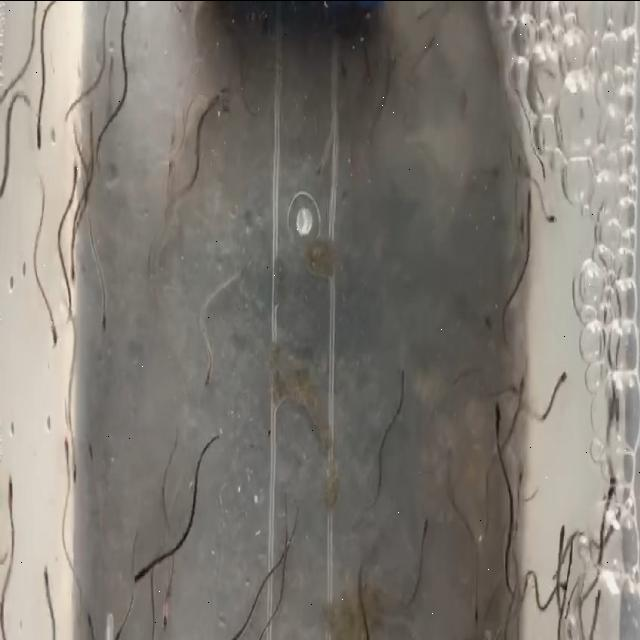active_glass_eel: (508, 205, 530, 252), (40, 306, 57, 364), (215, 72, 233, 123), (607, 389, 625, 434), (525, 202, 541, 252), (388, 354, 411, 388), (603, 473, 620, 519), (556, 519, 572, 567), (98, 293, 114, 341), (586, 582, 605, 620), (128, 549, 143, 597), (550, 572, 570, 608), (511, 459, 532, 493), (81, 419, 95, 469), (547, 195, 561, 242), (153, 600, 169, 640), (416, 512, 436, 544), (558, 519, 570, 572), (486, 362, 506, 393), (116, 0, 133, 36), (467, 606, 488, 634), (59, 428, 74, 466), (486, 398, 508, 423), (356, 614, 377, 640), (197, 354, 213, 388), (488, 154, 504, 188), (515, 383, 531, 417), (68, 253, 80, 297), (97, 0, 112, 35), (70, 156, 90, 182), (482, 300, 497, 334), (554, 368, 568, 404), (421, 31, 438, 60), (15, 40, 33, 67), (313, 147, 328, 179), (454, 73, 470, 103), (37, 561, 53, 591), (610, 509, 624, 541), (6, 470, 16, 514), (115, 601, 126, 640), (331, 52, 348, 77), (34, 118, 46, 152), (84, 596, 94, 634), (66, 452, 78, 482), (228, 618, 244, 640), (166, 148, 177, 174)
